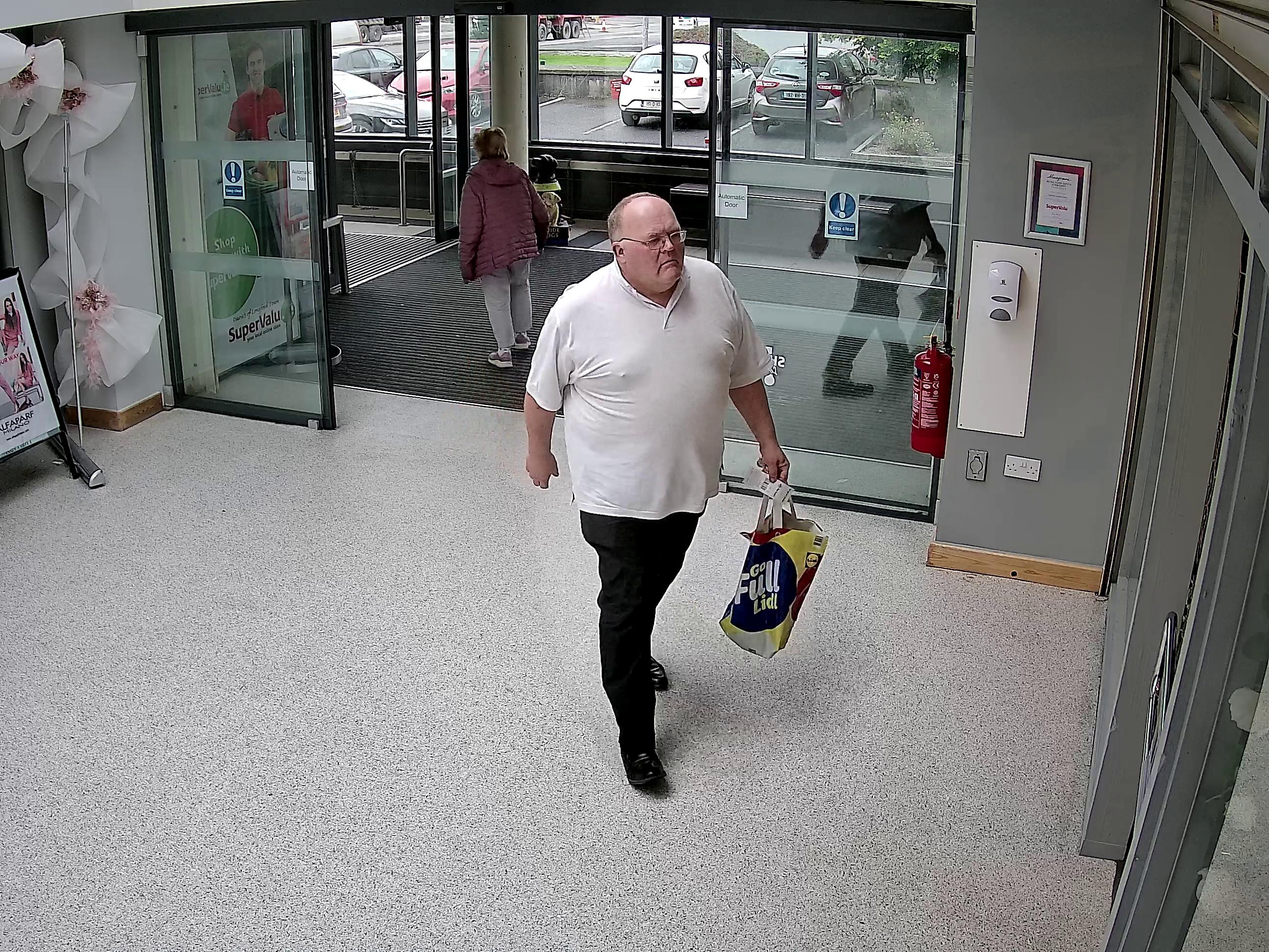filled-shopping-bags: (718, 481, 827, 659)
person: (523, 192, 790, 784)
person-with-filled-shopping-bag-s-: (524, 192, 826, 785)
